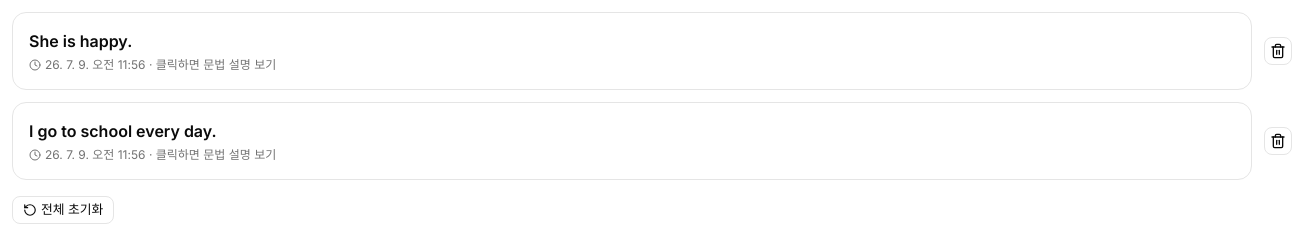
SentenceNote — 삭제·전체 초기화 (Scenario 12, 13) › 삭제 클릭 → 해당 문장이 목록에서 사라진다
Click the button named "I go to school every day. 삭제".
click(1278, 141)  # box [1264,127,1292,155]
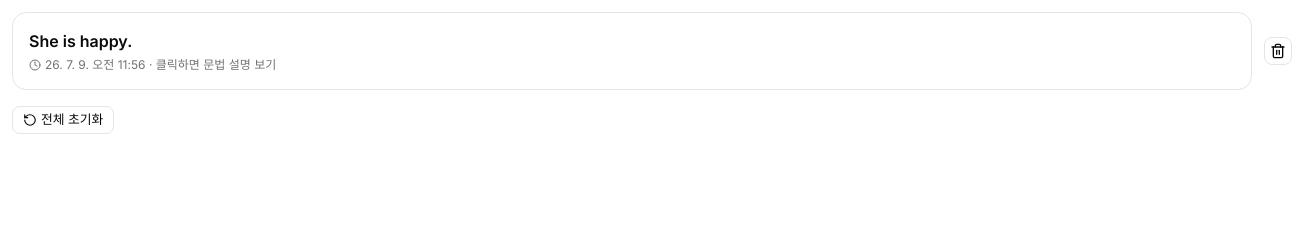
Check: the text "She is happy." is shown, box [29,31,132,51]
Check: the button "I go to school every day." is gone
